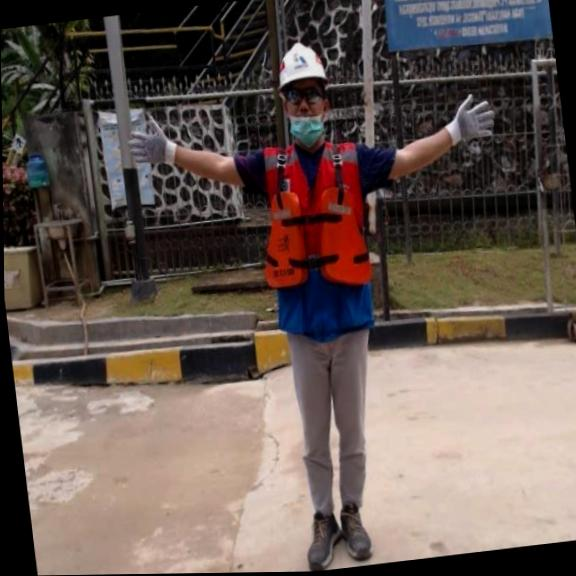safety_vest: (254, 187, 373, 291)
